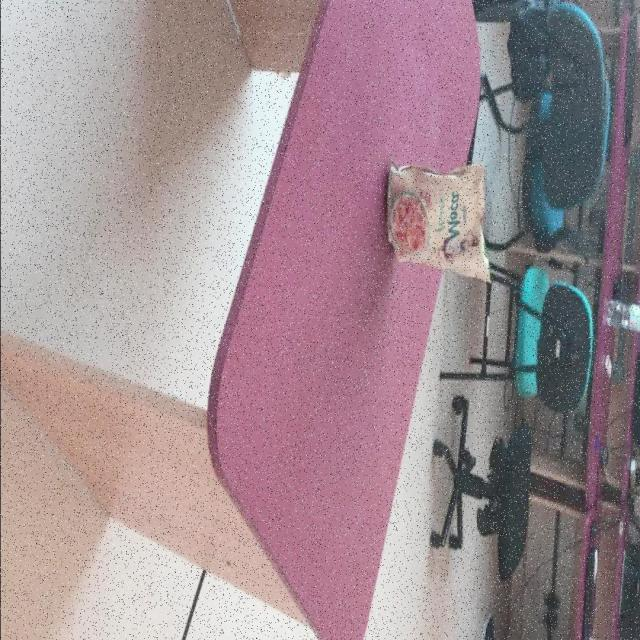CornFlakes: (387, 164, 492, 286), (390, 195, 429, 254)
